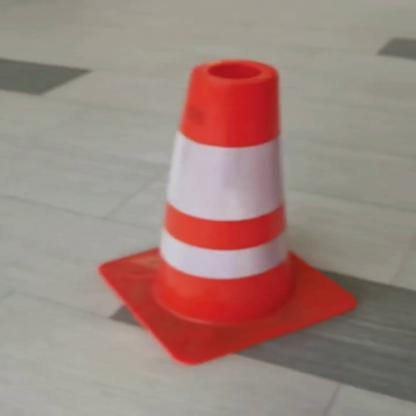cone: (83, 50, 372, 370)
